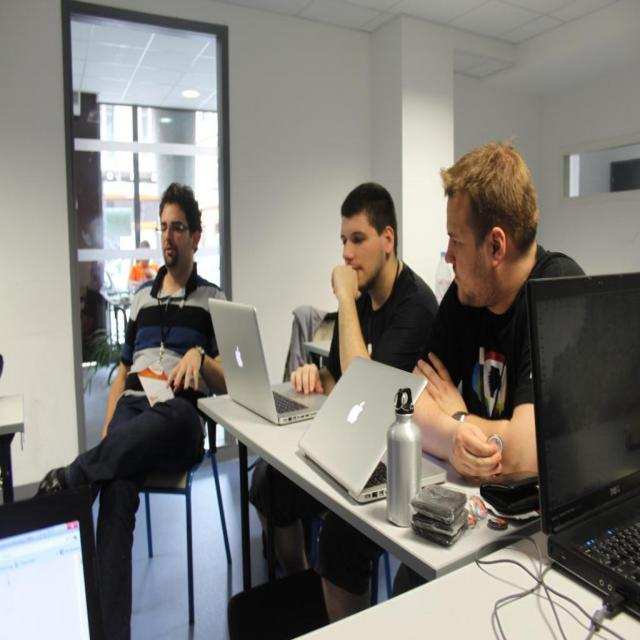chair: (140, 408, 232, 628)
desk: (204, 394, 640, 621)
laptop: (526, 271, 640, 619), (296, 355, 432, 499), (0, 486, 101, 636), (209, 297, 320, 427)
person: (35, 182, 231, 632), (413, 142, 588, 482), (286, 181, 438, 395)
